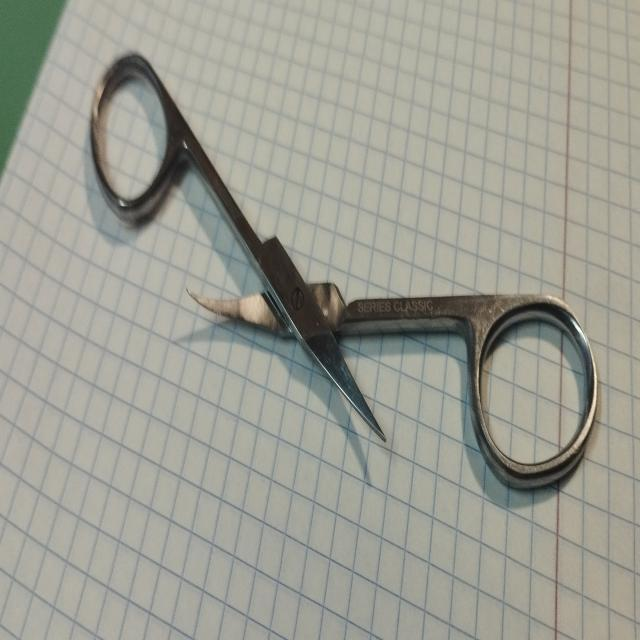tesoura: (86, 42, 602, 507)
